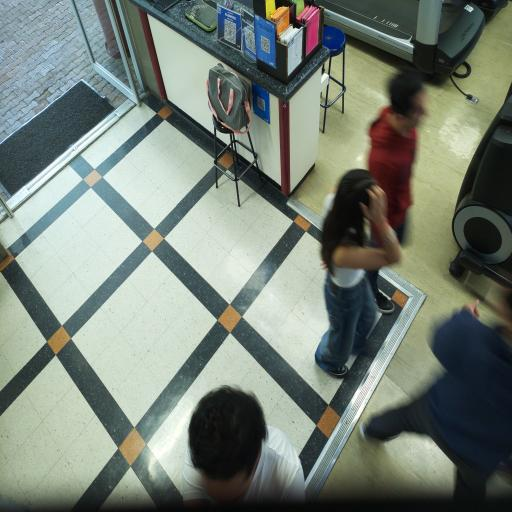person: (360, 289, 511, 499), (315, 170, 400, 378), (183, 387, 304, 505), (369, 68, 425, 243)
